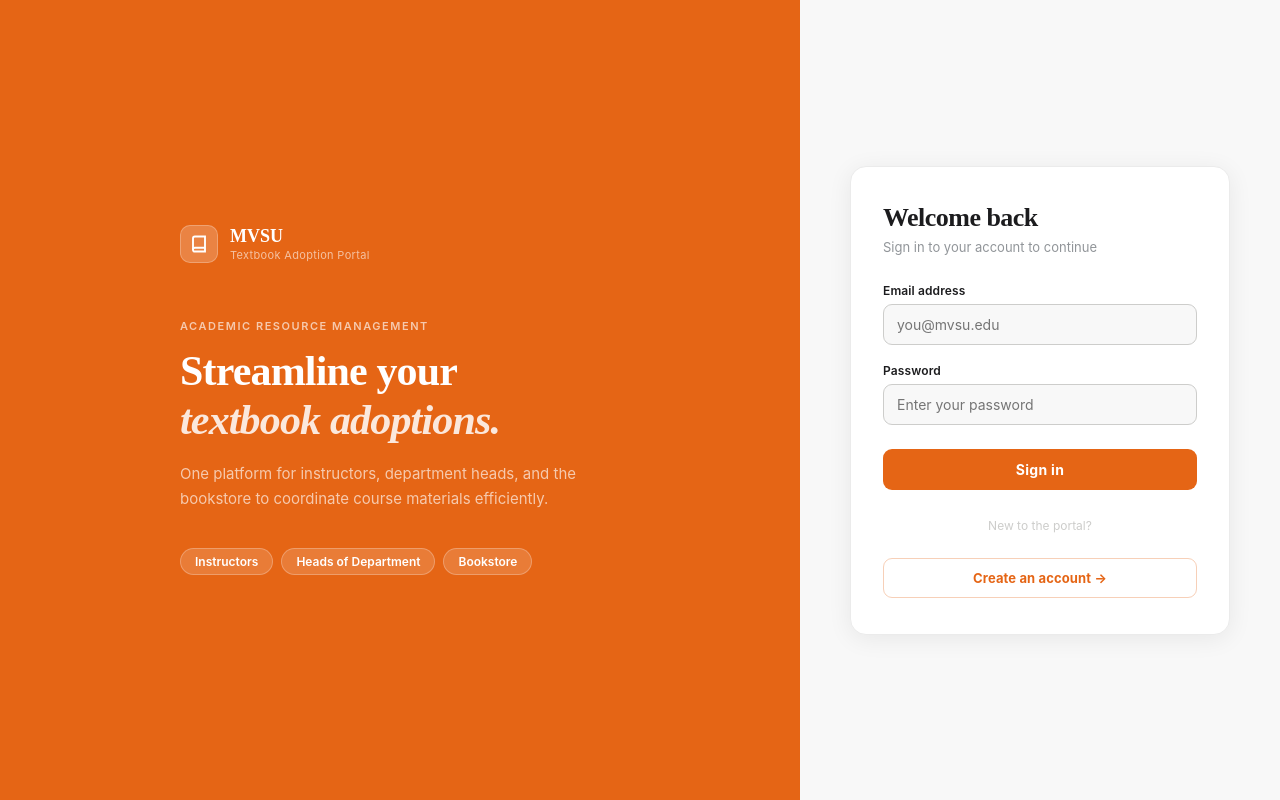
login stores session and opens the Instructor dashboard
This screenshot has width=1280, height=800.
Type "demo@example.test" into the field with placeholder "you@mvsu.edu" at (1040, 324), box [883,304,1197,344]
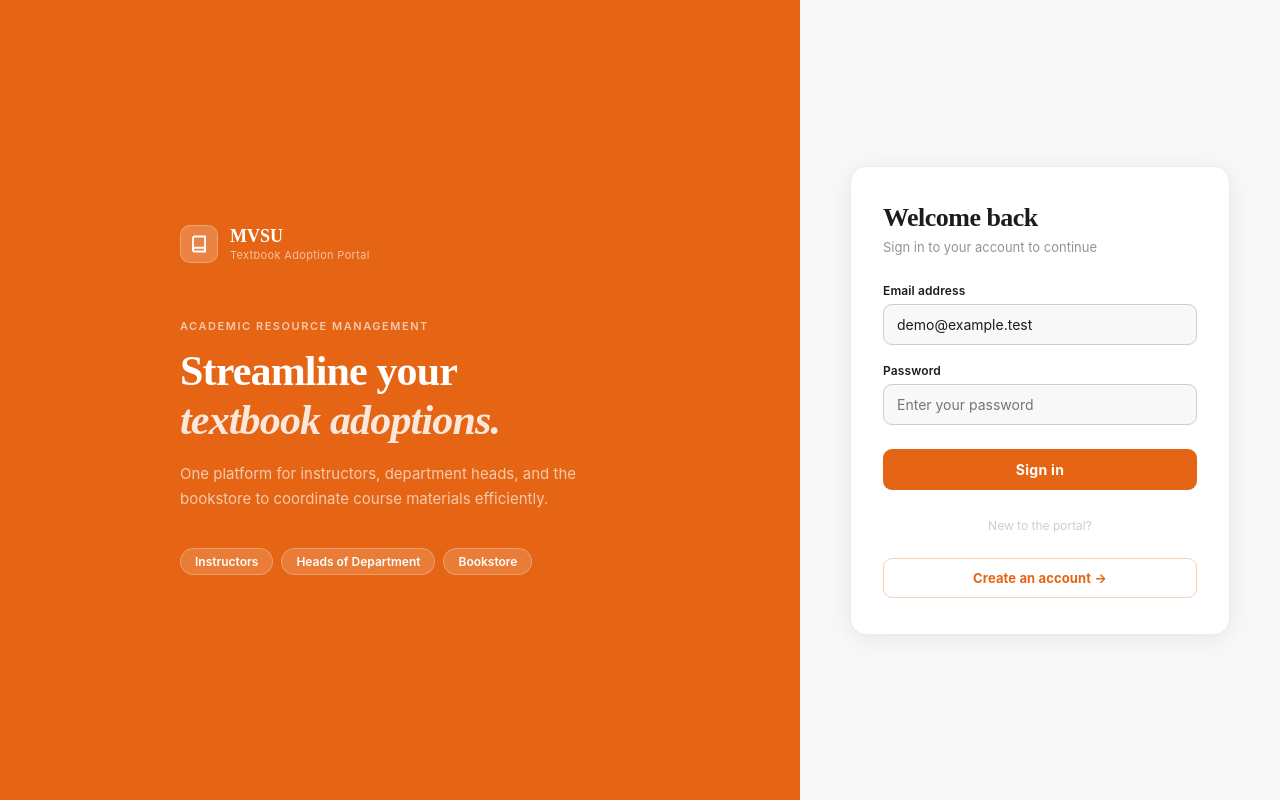
Type "DemoTextbooks!2026" into the password field with placeholder "Enter your password" at (1040, 404), box [883,384,1197,424]
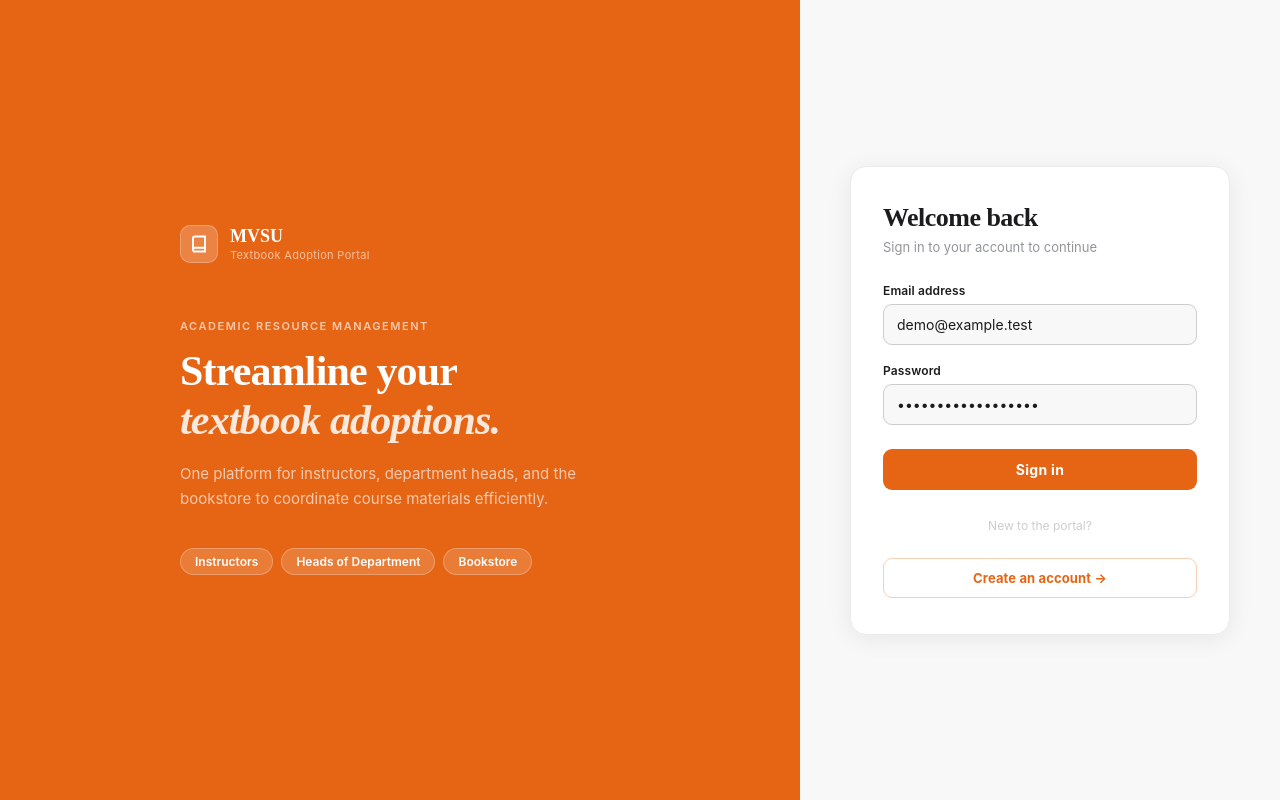
Click the button "Sign in" at (1040, 469), box [883,448,1197,490]
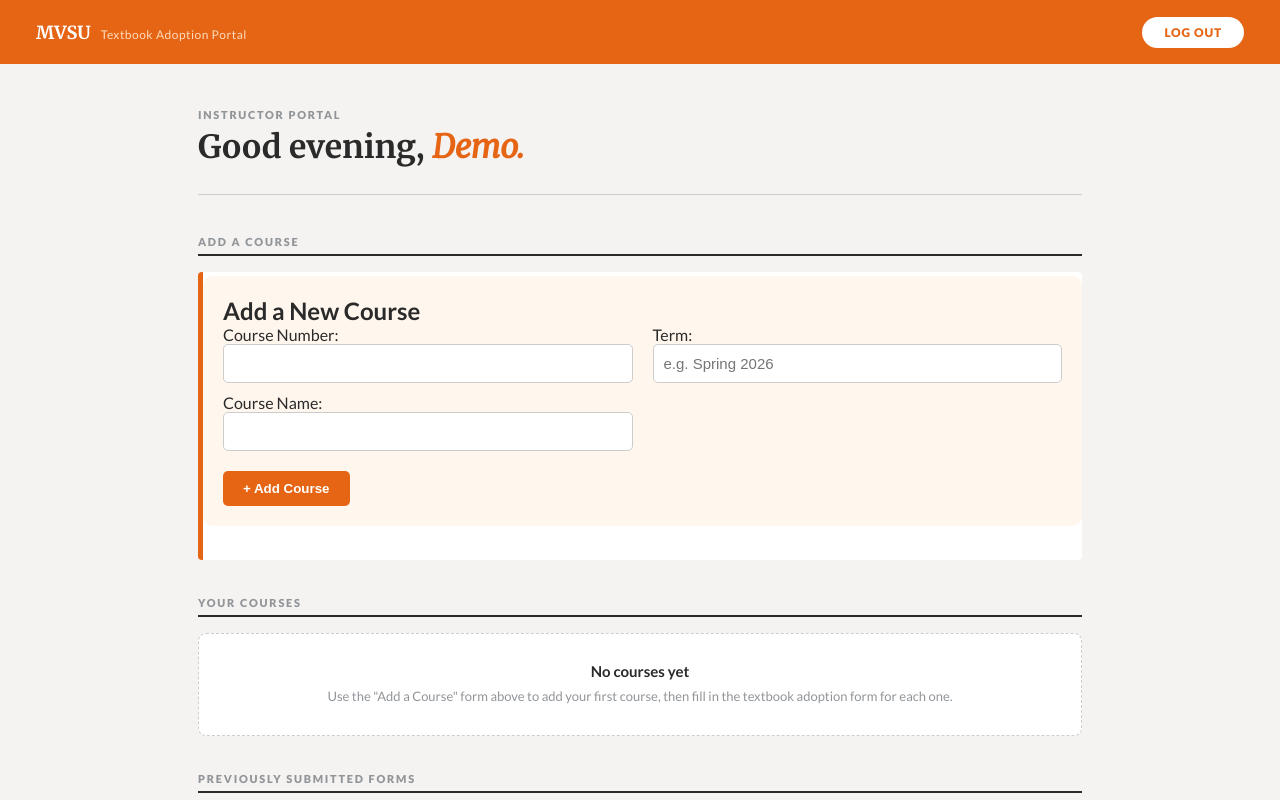
Expected: the text "Instructor Portal" is shown, [198,108,341,121]
